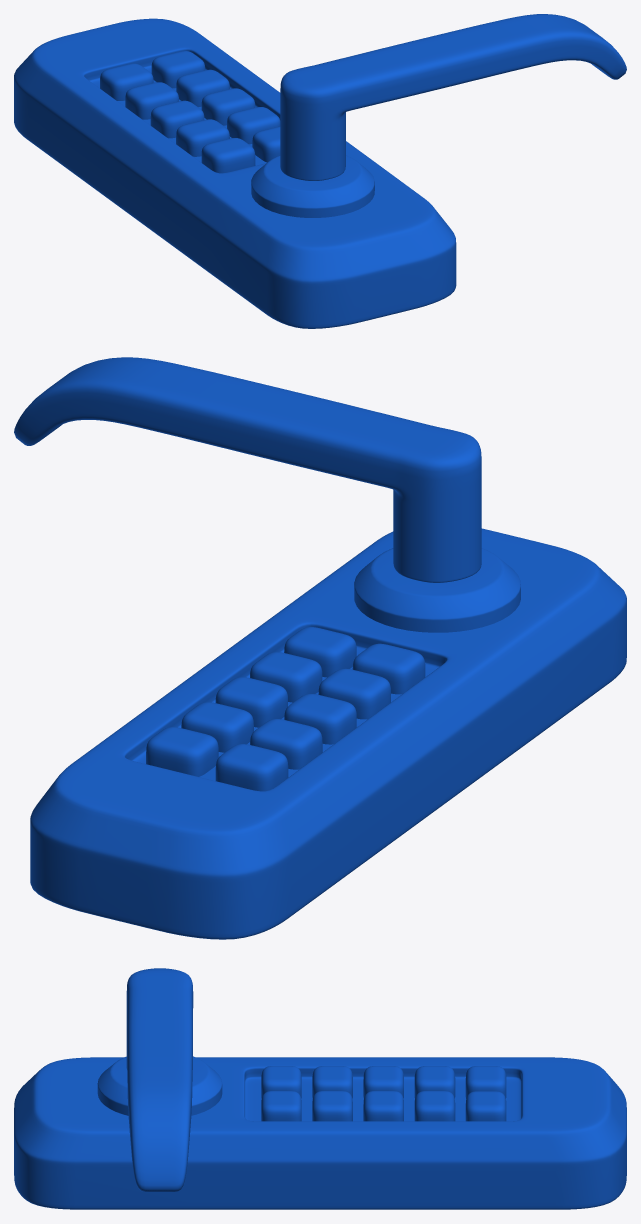
Rendered from door-lock.glb.
3 views of the same model, one above another, from view 1: azimuth 30°, elevation 25°; view 2: azimuth 150°, elevation 25°; view 3: azimuth 270°, elevation 25° (orthographic). The views are drawn at different scales.
Parts seen in each view (by area): view 1: 20290_Keypad_handle_entry_v2; view 2: 20290_Keypad_handle_entry_v2; view 3: 20290_Keypad_handle_entry_v2.
Part boxes in pixels (left/top/right/bottom): 20290_Keypad_handle_entry_v2: left=14, top=14, right=626, bottom=328; 20290_Keypad_handle_entry_v2: left=14, top=357, right=626, bottom=939; 20290_Keypad_handle_entry_v2: left=14, top=968, right=626, bottom=1209.
Bounding box in the file's own units: 0.1264 × 0.0573 × 0.1695.
